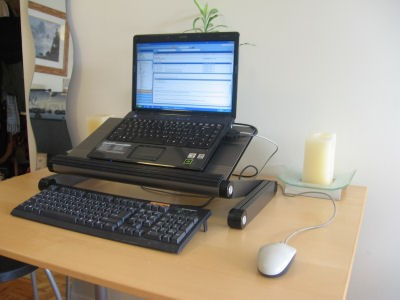keyboard: (8, 177, 219, 255), (102, 111, 232, 155)
monitor: (127, 26, 242, 114)
mouse: (253, 237, 300, 282)
